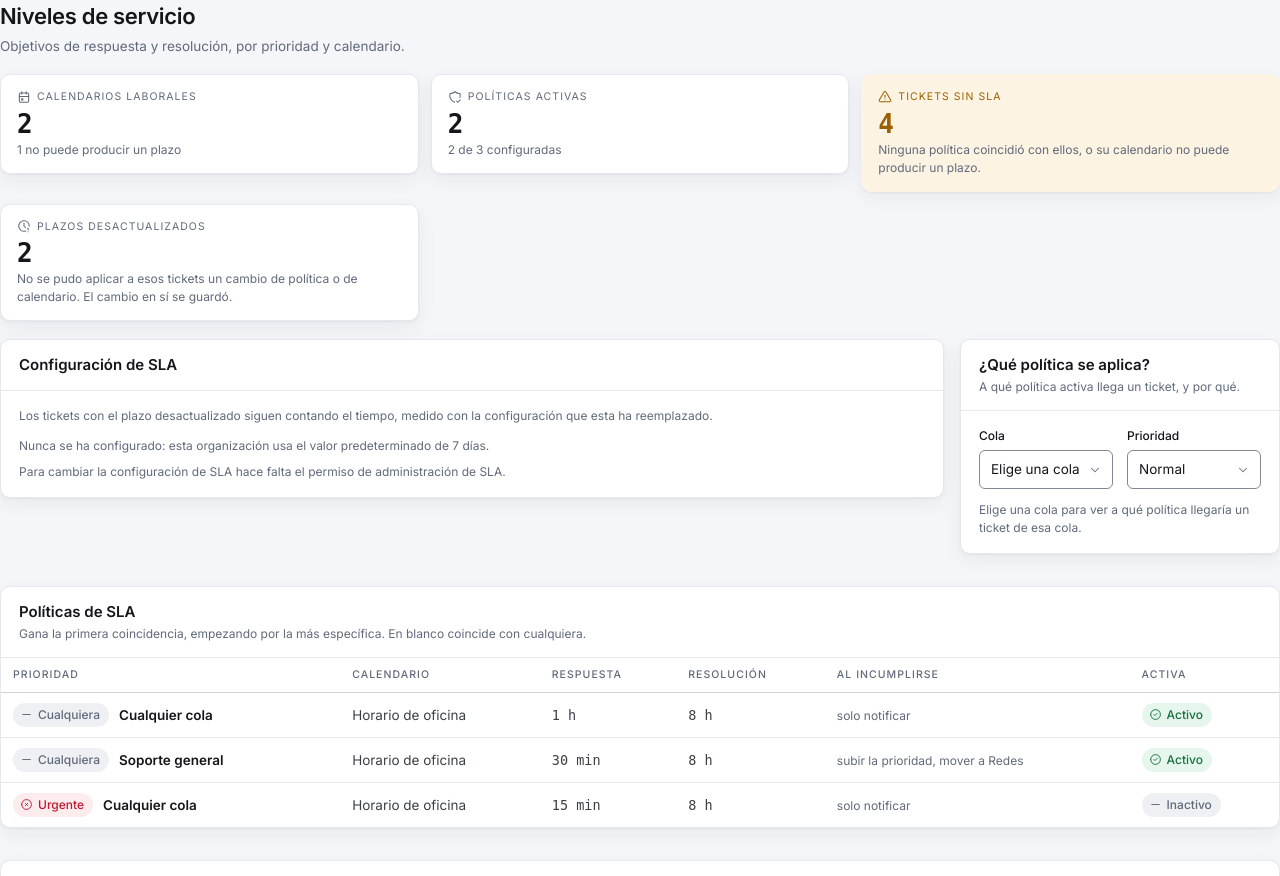
Test: the service levels page in Spanish › words the resolver's answer, the four levels and which are shadowed
The width and height of the screenshot is (1280, 876).
Select "Soporte general" in the dropdown labelled "Cola". click: point(1046, 470)
box: [979,450,1113,489]
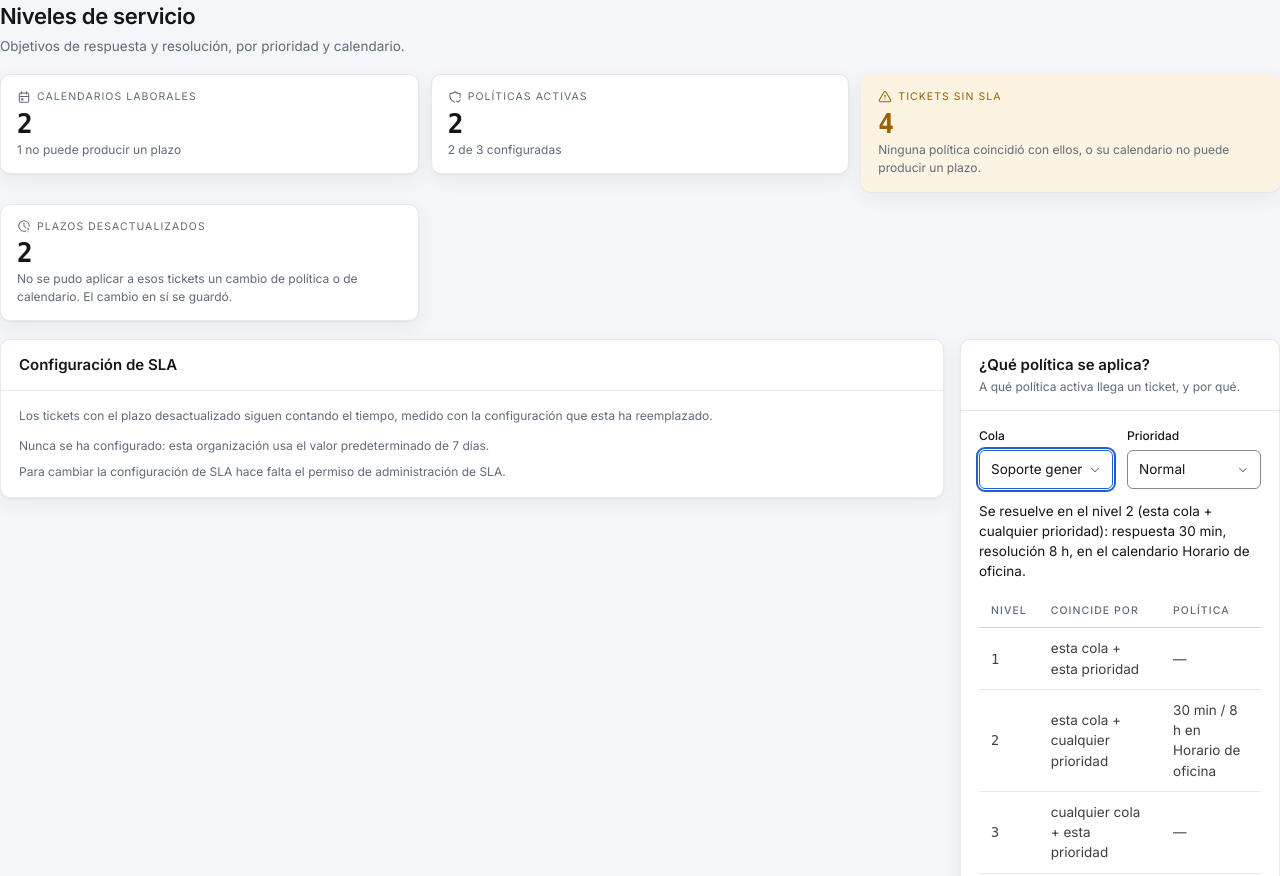
Check: the text "Se resuelve en el nivel 2 (esta cola + cualquier prioridad): respuesta 30 min, resolución 8 h, en el calendario Horario " is shown, box [979,503,1250,580]
Check: the column heading "Nivel" is shown, box [979,594,1039,628]
Check: the column heading "Coincide por" is shown, box [1039,594,1161,628]
